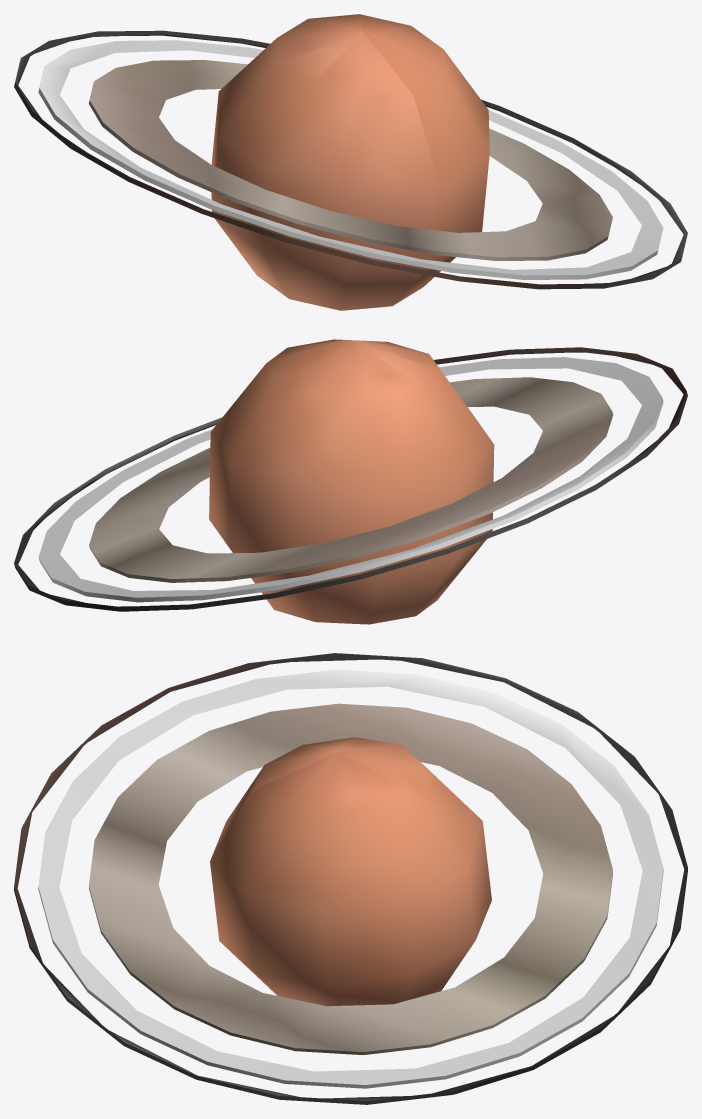
Rendered from Colony_Planet_Art.glb.
The picture shows the model from 3 angles, top to bottom: view 1: azimuth 30°, elevation 25°; view 2: azimuth 150°, elevation 25°; view 3: azimuth 270°, elevation 25°; orthographic projection. The views are drawn at different scales.
Visible parts, largest first — view 1: Colony_Planet_Art; view 2: Colony_Planet_Art; view 3: Colony_Planet_Art.
Boxes of the visible parts, x1,y1,x2,y2 form: Colony_Planet_Art: (14,14,687,310); Colony_Planet_Art: (14,339,687,624); Colony_Planet_Art: (14,653,687,1104).
Size of the model in its own units: 4.45 by 1.99 by 4.64.
1 material, 1 textured.
